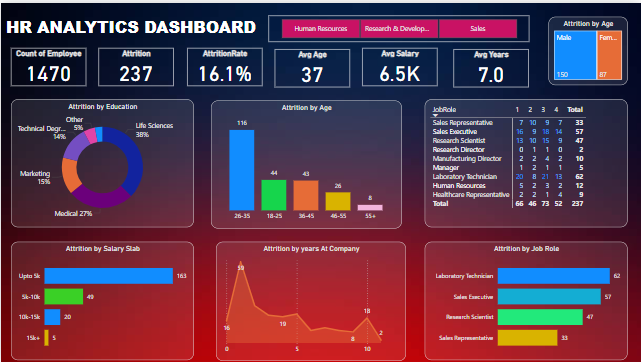

This screenshot's page, from the dashboard's own definition file:
{"tool":"powerbi","page":{"name":"Page 1","canvas":[1280,720],"ordinal":0},"visuals":[{"type":"card","title":"Count of Employee","fields":{"Values":["CountNonNull(HR_Analytics.EmpID)"]},"box":[20,90,150,75.7],"z":0},{"type":"card","title":"Attrition","fields":{"Values":["Sum(HR_Analytics.AttritionCount)"]},"box":[195.7,90,150,75.7],"z":1000},{"type":"card","title":"AttritionRate","fields":{"Values":["HR_Analytics.AttritionRate"]},"box":[372.9,90,150,75.7],"z":2000},{"type":"card","title":"Avg Age","fields":{"Values":["Avg(HR_Analytics.Age)"]},"box":[547.1,91.4,150,75.7],"z":3000},{"type":"card","title":"Avg Salary","fields":{"Values":["Avg(HR_Analytics.MonthlyIncome)"]},"box":[722.9,90,150,75.7],"z":4000},{"type":"card","title":"Avg Years","fields":{"Values":["Avg(HR_Analytics.YearsAtCompany)"]},"box":[905.7,91.4,150,75.7],"z":5000},{"type":"donutChart","title":"Attrition by Education","fields":{"Category":["HR_Analytics.EducationField"],"Y":["Sum(HR_Analytics.AttritionCount)"]},"box":[20,192.9,365.7,255.7],"z":6000},{"type":"columnChart","title":"Attrition by Age","fields":{"Category":["HR_Analytics.AgeGroup"],"Y":["Sum(HR_Analytics.AttritionCount)"]},"box":[430,192.9,381.4,255.7],"z":7000},{"type":"pivotTable","fields":{"Rows":["HR_Analytics.JobRole"],"Columns":["HR_Analytics.JobSatisfaction"],"Values":["Sum(HR_Analytics.AttritionCount)"]},"box":[848.6,192.9,405.7,255.7],"z":8000},{"type":"barChart","title":"Attrition by Salary Slab","fields":{"Category":["HR_Analytics.SalarySlab"],"Y":["Sum(HR_Analytics.AttritionCount)"]},"box":[20,478.6,365.7,237.1],"z":9000},{"type":"barChart","title":"Attrition by Job Role","fields":{"Category":["HR_Analytics.JobRole"],"Y":["Sum(HR_Analytics.AttritionCount)"]},"box":[848.6,478.6,405.7,237.1],"z":10000},{"type":"areaChart","title":"Attrition by years At Company","fields":{"Category":["HR_Analytics.YearsAtCompany"],"Y":["Sum(HR_Analytics.AttritionCount)"]},"box":[430,477.1,380,238.6],"z":11000},{"type":"treemap","title":"Attrition by Age","fields":{"Group":["HR_Analytics.Gender"],"Values":["Sum(HR_Analytics.AttritionCount)"]},"box":[1095.7,28.6,158.6,137.1],"z":12000},{"type":"slicer","fields":{"Values":["HR_Analytics.Department"]},"box":[534.3,24.3,521.4,52.9],"z":13000},{"type":"textbox","box":[5.7,20.8,528.6,55.7],"z":14000}]}

Visuals, with their boxes in screenshot pixels (x1, y1, x2, y2), scaled from the page's 1280x720 canvas onto the 641x362 screenshot:
"Count of Employee" card: (x1=10, y1=45, x2=85, y2=83)
"Attrition" card: (x1=98, y1=45, x2=173, y2=83)
"AttritionRate" card: (x1=187, y1=45, x2=262, y2=83)
"Avg Age" card: (x1=274, y1=46, x2=349, y2=84)
"Avg Salary" card: (x1=362, y1=45, x2=437, y2=83)
"Avg Years" card: (x1=454, y1=46, x2=529, y2=84)
"Attrition by Education" donutChart: (x1=10, y1=97, x2=193, y2=226)
"Attrition by Age" columnChart: (x1=215, y1=97, x2=406, y2=226)
pivotTable - HR_Analytics.JobRole x HR_Analytics.JobSatisfaction: (x1=425, y1=97, x2=628, y2=226)
"Attrition by Salary Slab" barChart: (x1=10, y1=241, x2=193, y2=360)
"Attrition by Job Role" barChart: (x1=425, y1=241, x2=628, y2=360)
"Attrition by years At Company" areaChart: (x1=215, y1=240, x2=406, y2=360)
"Attrition by Age" treemap: (x1=549, y1=14, x2=628, y2=83)
slicer - HR_Analytics.Department: (x1=268, y1=12, x2=529, y2=39)
textbox: (x1=3, y1=10, x2=268, y2=38)
